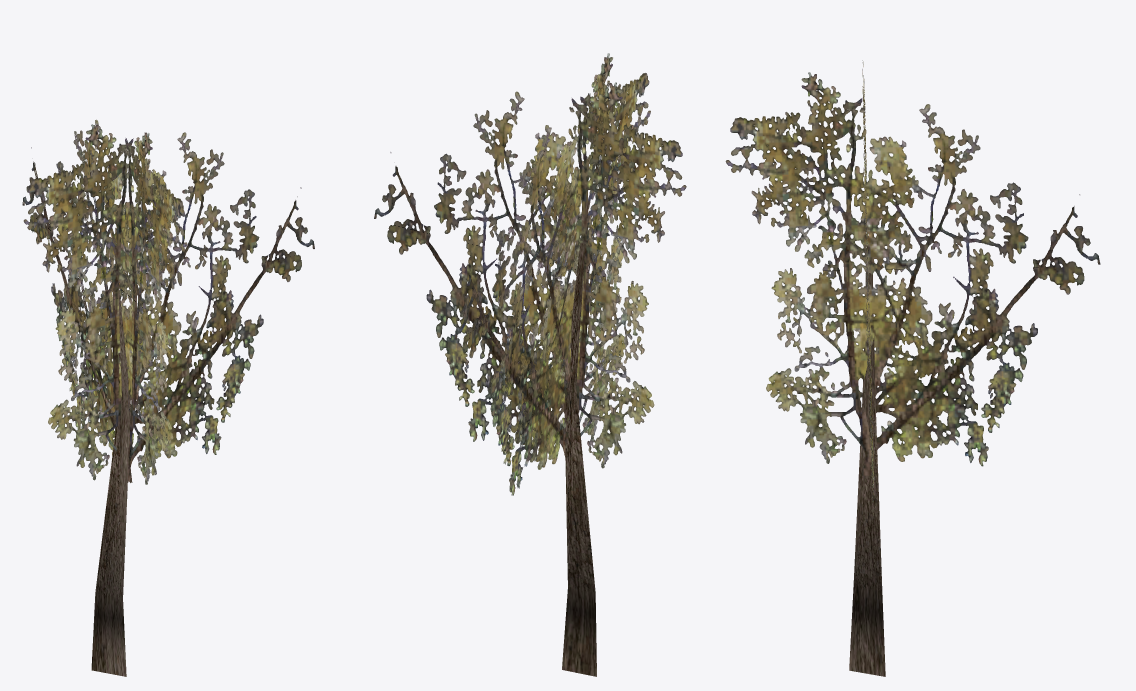
Rendered from mtns_shrb_yellowleaf1_l2.fbx.
3 views of the same model, side by side, from view 1: azimuth 30°, elevation 25°; view 2: azimuth 150°, elevation 25°; view 3: azimuth 270°, elevation 25° (orthographic). The views are drawn at different scales.
Visible parts, largest first — view 1: mesh_node; view 2: mesh_node; view 3: mesh_node.
Boxes of the visible parts, x1=… form: mesh_node: x1=22, y1=119, x2=314, y2=676; mesh_node: x1=374, y1=53, x2=686, y2=676; mesh_node: x1=725, y1=60, x2=1100, y2=676.
Bounding box in the file's own units: 0.8397 × 1.49 × 0.8845.
